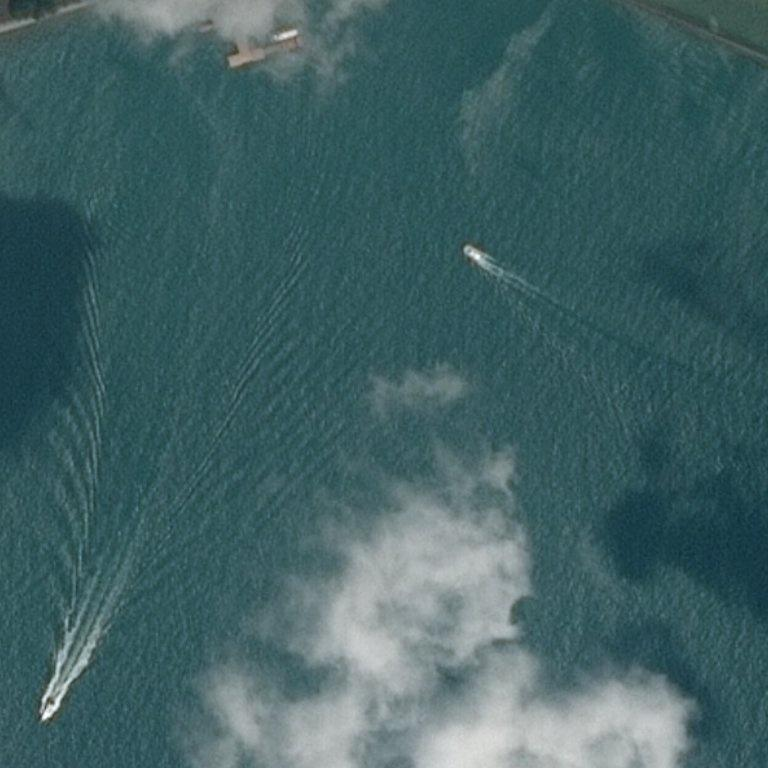ship: (451, 238, 481, 265), (267, 28, 303, 43), (40, 699, 59, 726), (295, 29, 299, 32), (268, 36, 271, 39), (42, 37, 45, 40), (472, 258, 475, 261), (465, 247, 467, 250), (41, 719, 44, 721), (49, 701, 51, 703), (481, 0, 481, 1), (57, 692, 57, 693)
